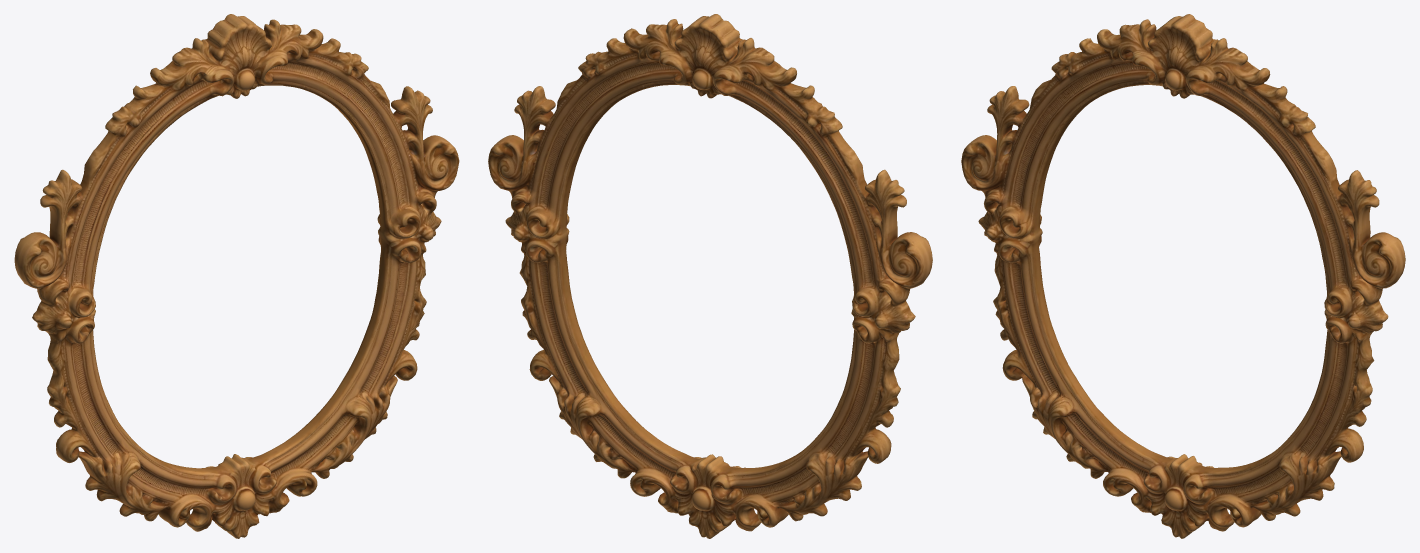
Rendered from ornate-gold-frame-compact.glb.
The picture shows the model from 3 angles, left to right: view 1: azimuth 30°, elevation 25°; view 2: azimuth 150°, elevation 25°; view 3: azimuth 330°, elevation 25°; orthographic projection.
Visible parts, largest first — view 1: tripo_node_4b47f6c4-8ee1-4042-83e9-e341a03886d8; view 2: tripo_node_4b47f6c4-8ee1-4042-83e9-e341a03886d8; view 3: tripo_node_4b47f6c4-8ee1-4042-83e9-e341a03886d8.
Part boxes in pixels (left/top/right/bottom): tripo_node_4b47f6c4-8ee1-4042-83e9-e341a03886d8: left=14, top=14, right=459, bottom=538; tripo_node_4b47f6c4-8ee1-4042-83e9-e341a03886d8: left=488, top=14, right=932, bottom=538; tripo_node_4b47f6c4-8ee1-4042-83e9-e341a03886d8: left=961, top=14, right=1405, bottom=538.
Bounding box in the file's own units: 0.8652 × 0.977 × 0.0991.
1 material, 1 textured.
